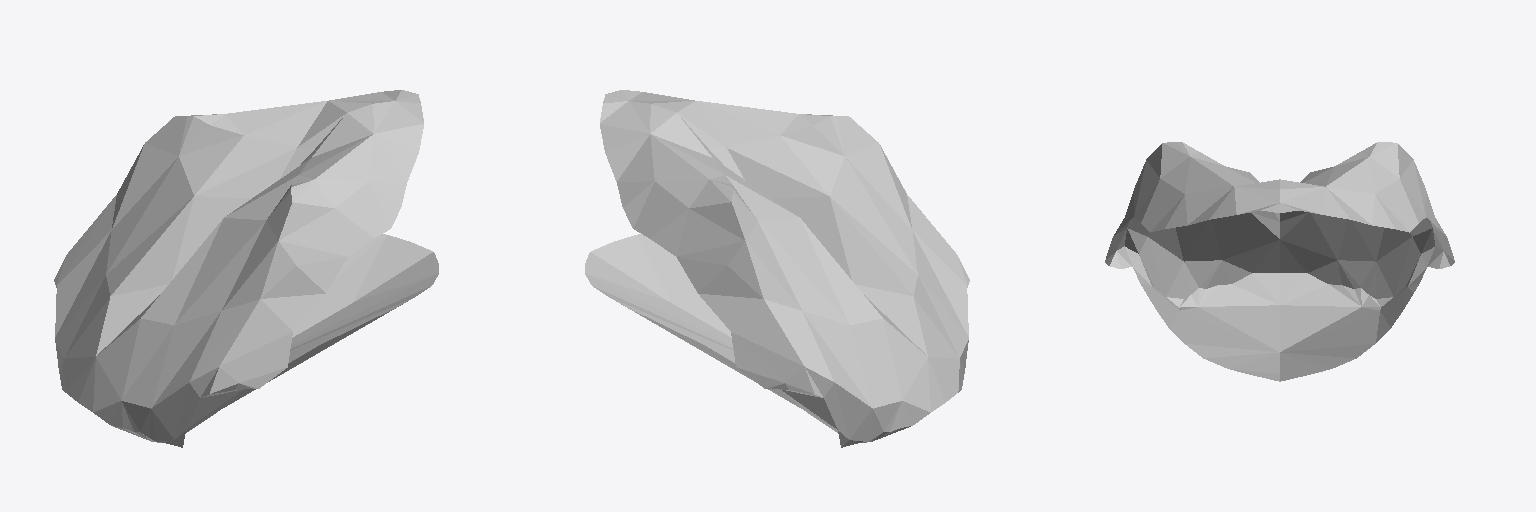
File: Mouth.obj
3 views of the same model, side by side, from view 1: azimuth 30°, elevation 25°; view 2: azimuth 150°, elevation 25°; view 3: azimuth 270°, elevation 25° (orthographic).
Parts seen in each view (by area): view 1: tna_mouth; view 2: tna_mouth; view 3: tna_mouth.
Boxes of the visible parts, x1,y1,x2,y2 form: tna_mouth: [54, 90, 438, 447]; tna_mouth: [585, 90, 969, 447]; tna_mouth: [1105, 142, 1454, 381].
Bounding box in the file's own units: 0.0913 × 0.0607 × 0.078.